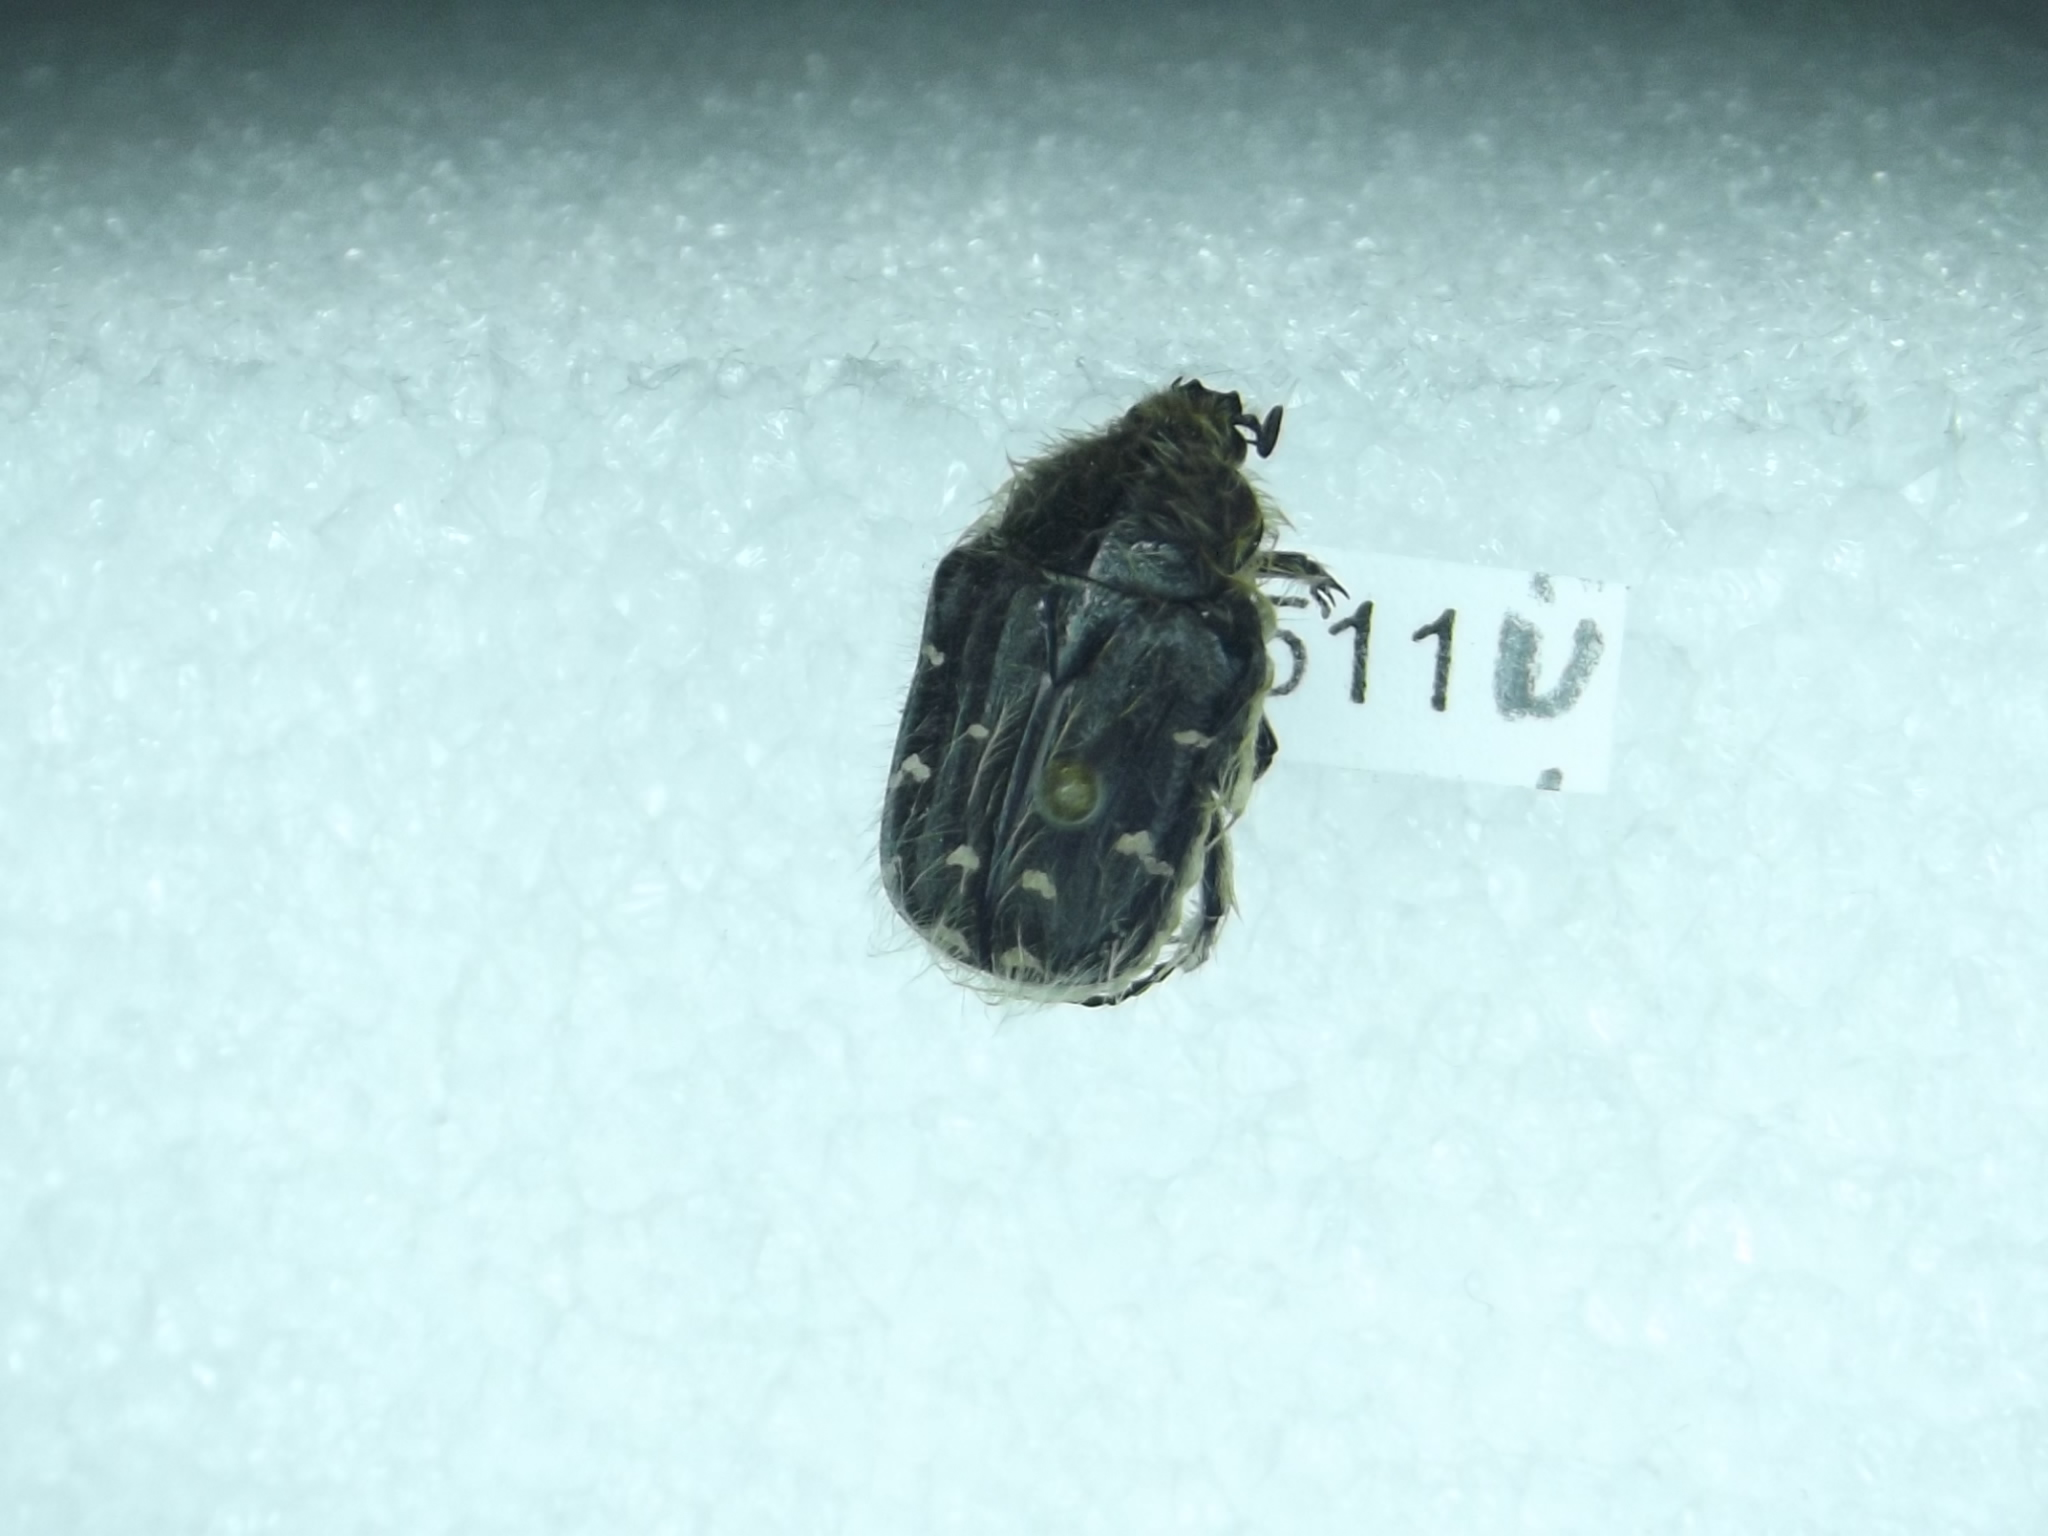Tropinota_senicula: (829, 378, 1316, 1028)
